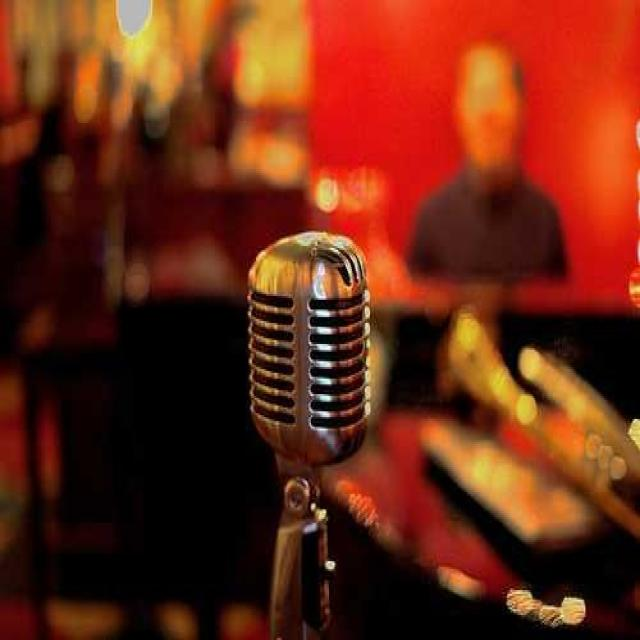microphone: (245, 225, 382, 535)
